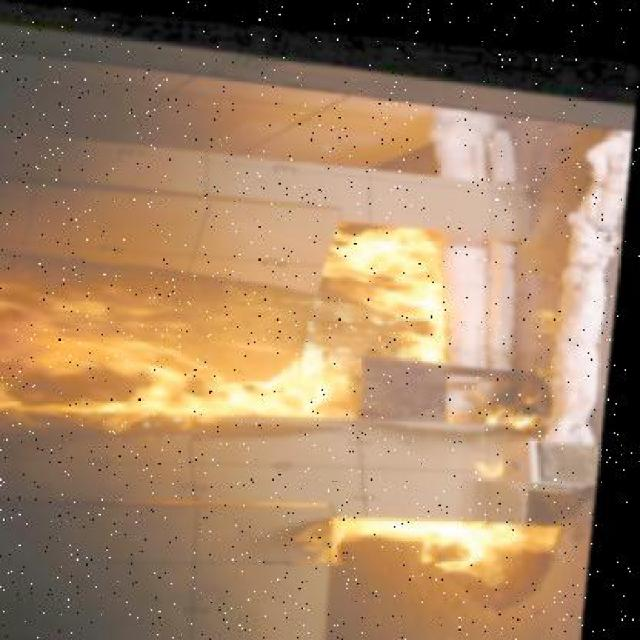fire: (1, 181, 461, 463)
